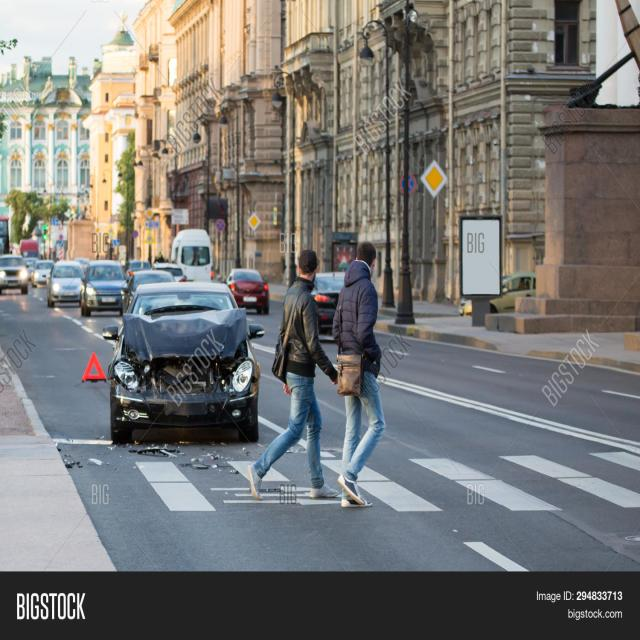crush: (107, 305, 259, 397)
